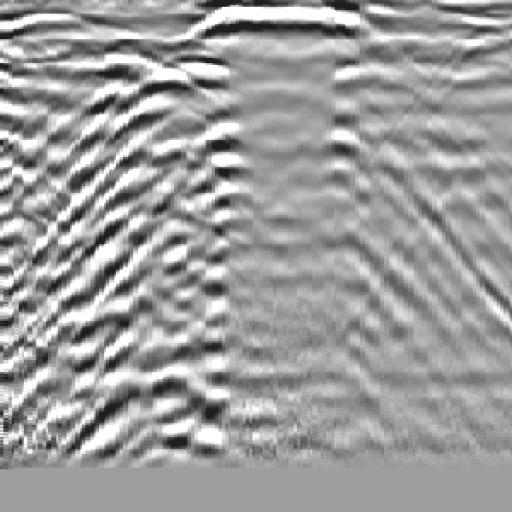metalic: (30, 35, 336, 433)
